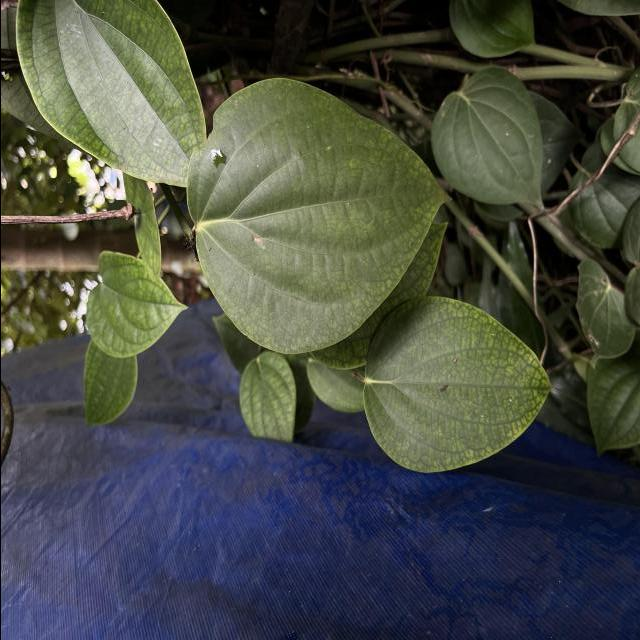Piper nigrum: (184, 76, 454, 357), (360, 294, 552, 474)
